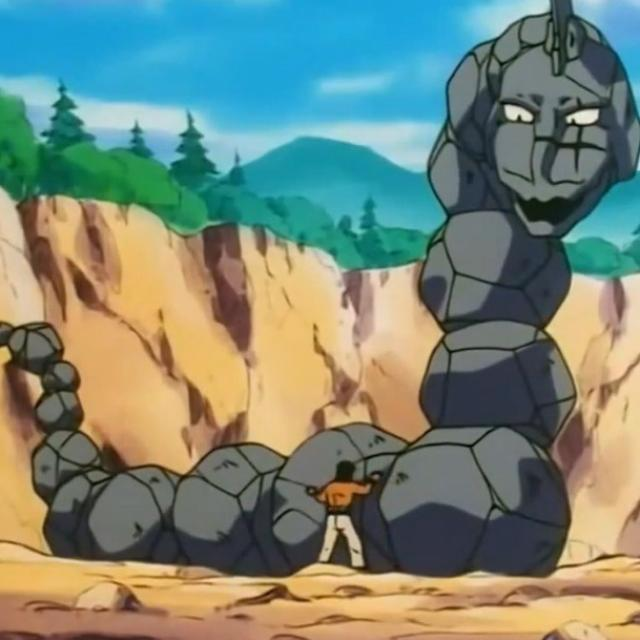Onix: (280, 2, 632, 571)
